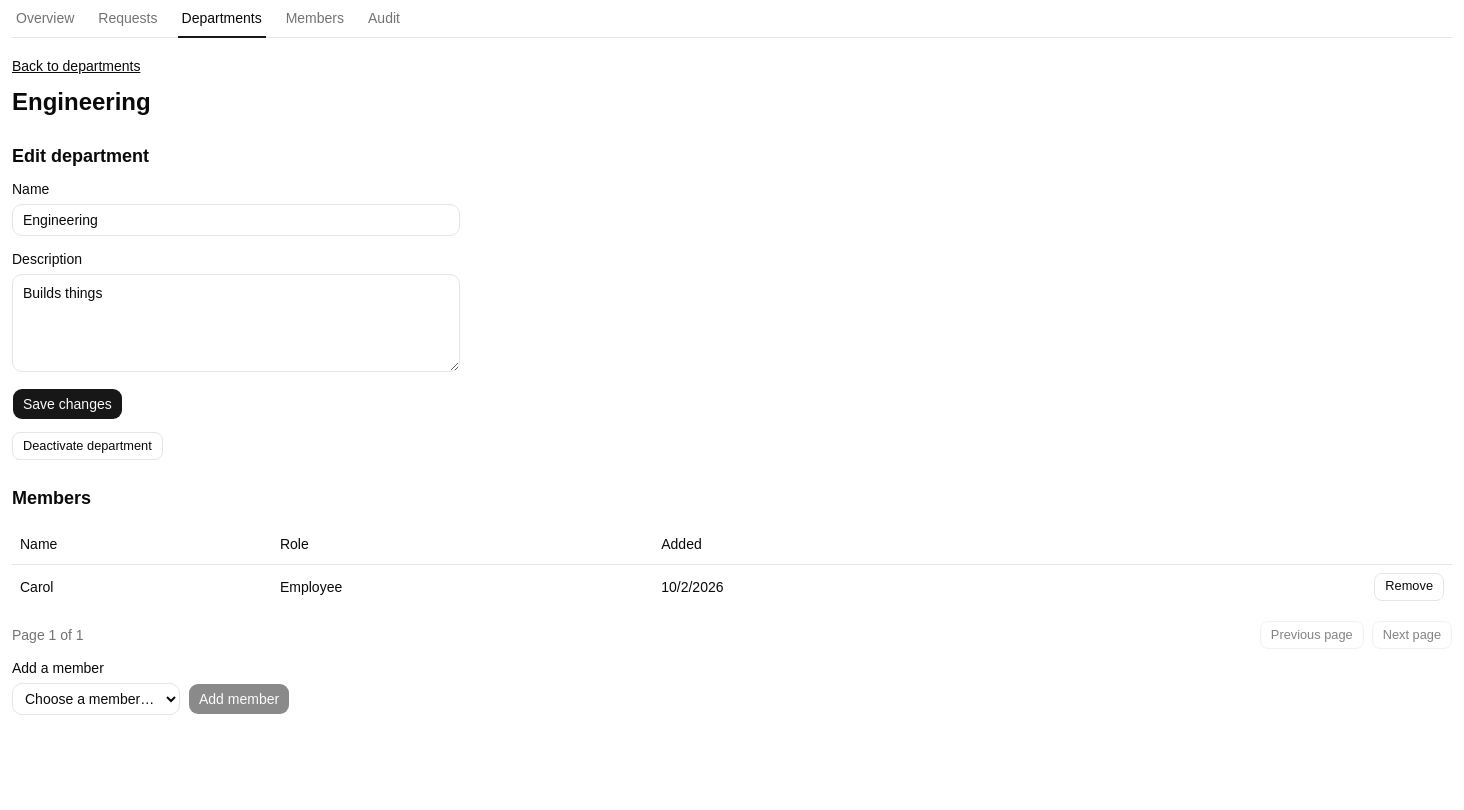
Test: DepartmentDetailPage › lets an admin add a member from the organization
Select "Dan" in the dropdown labelled "Add a member" at (96, 698), box [12,682,180,714]
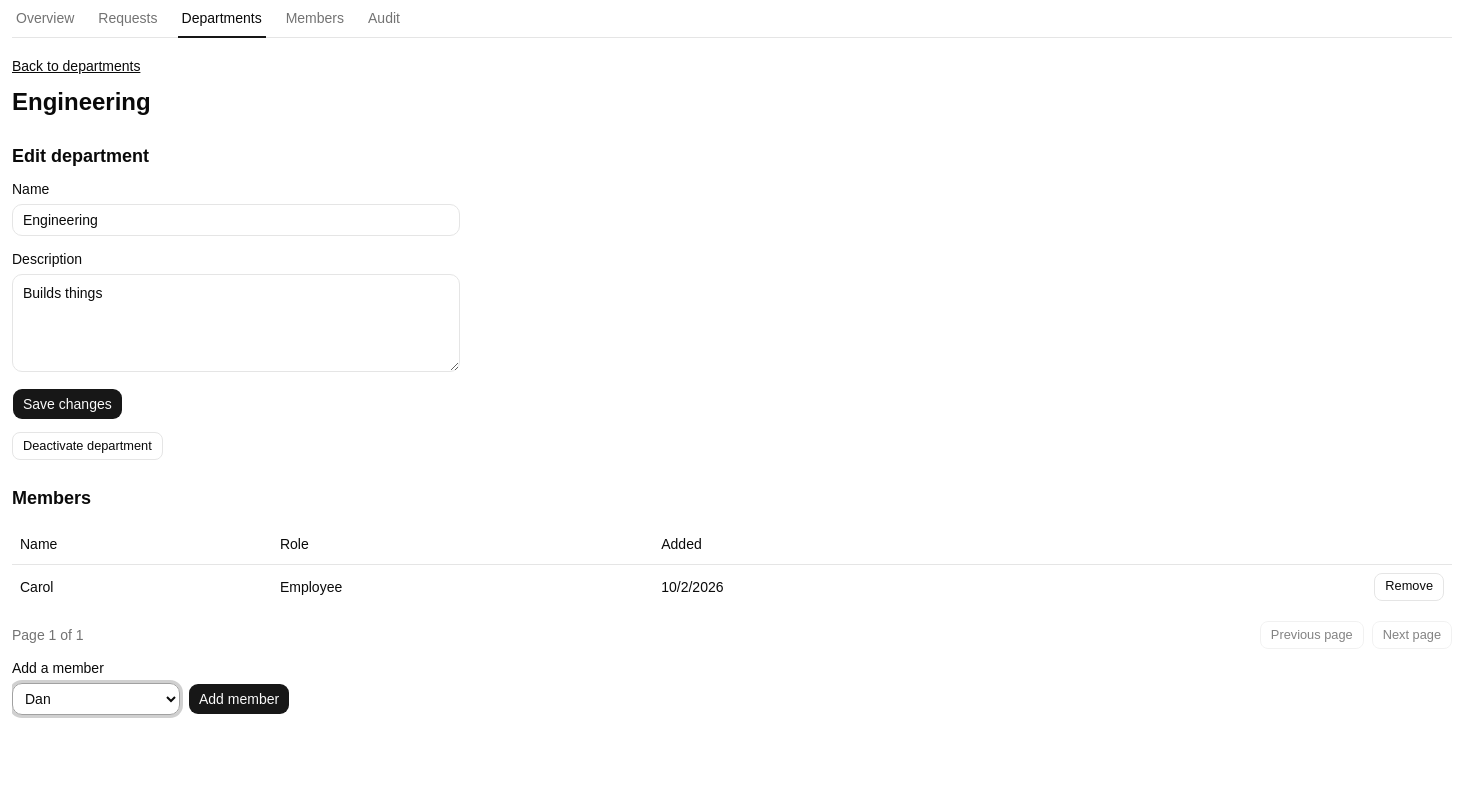
Click the button "Add member" at (239, 698), box [188,682,290,714]
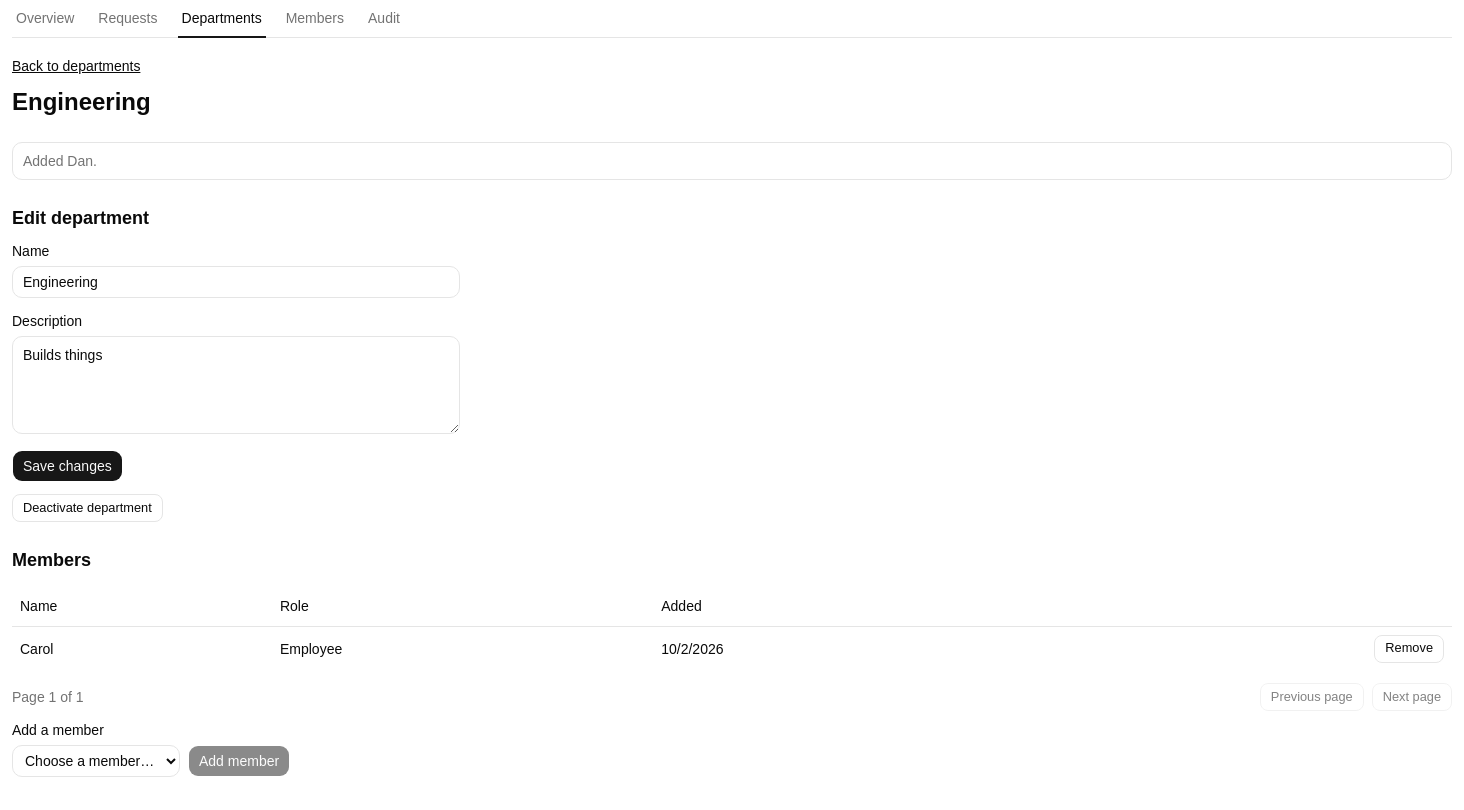
expect the text "Added Dan." is shown: met, box [23,153,97,169]
